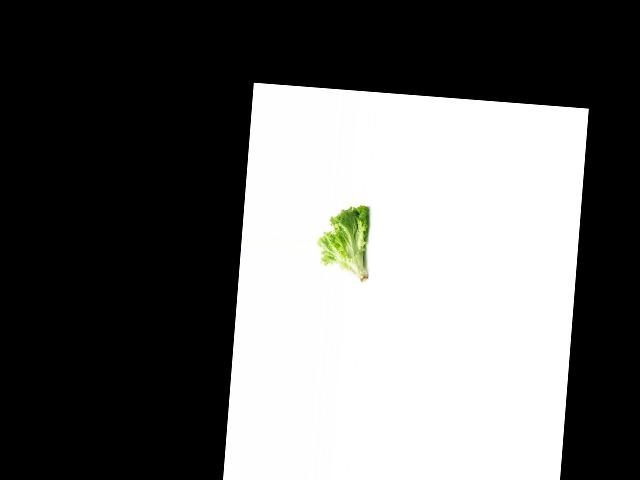lettuce: (314, 202, 374, 284)
